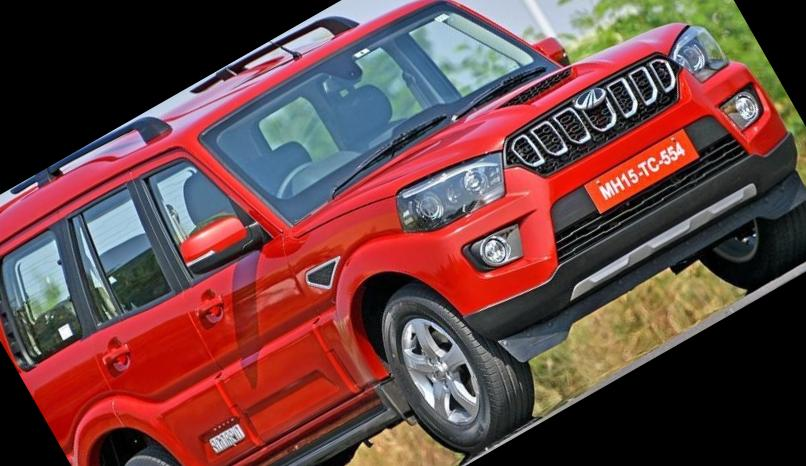plate: (578, 121, 704, 220)
